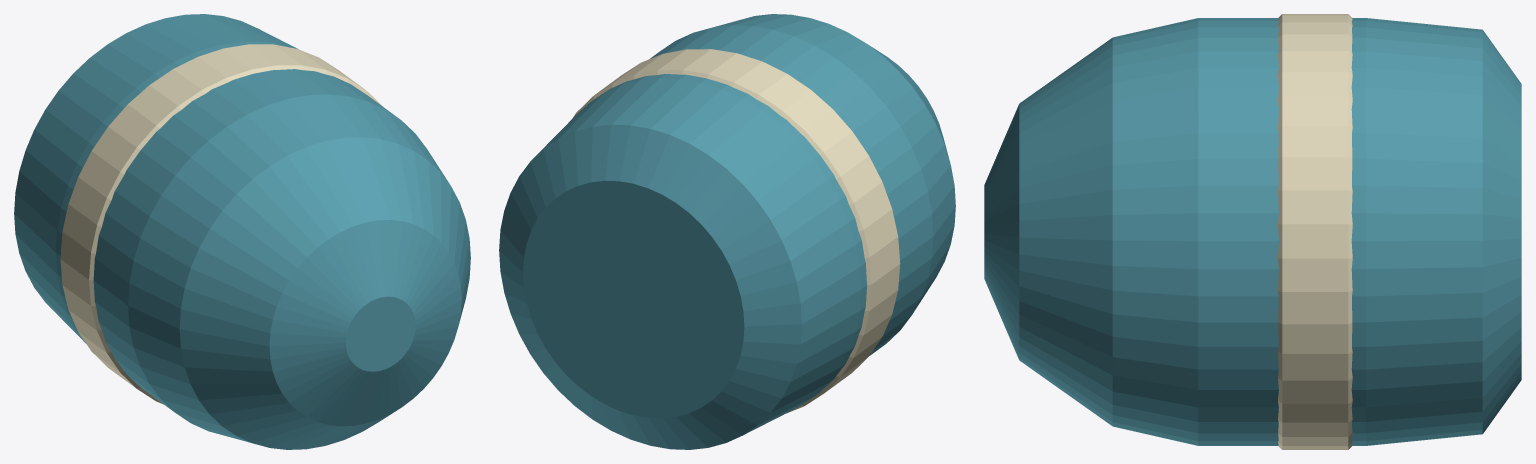
File: RUBBER_SHELL.hi.glb
The picture shows the model from 3 angles, left to right: view 1: azimuth 30°, elevation 25°; view 2: azimuth 150°, elevation 25°; view 3: azimuth 270°, elevation 25°; orthographic projection. The views are drawn at different scales.
Parts seen in each view (by area): view 1: Body_Mesh; view 2: Body_Mesh; view 3: Body_Mesh.
Boxes of the visible parts, x1,y1,x2,y2 form: Body_Mesh: (14,14,470,449); Body_Mesh: (499,14,955,449); Body_Mesh: (984,14,1521,449).
Size of the model in its own units: 0.112 by 0.112 by 0.138.
Materials: 1 (1 with a texture image).
